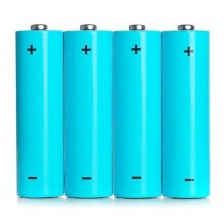battery: (108, 21, 164, 202), (60, 22, 115, 201), (159, 22, 213, 201), (14, 22, 65, 200)
